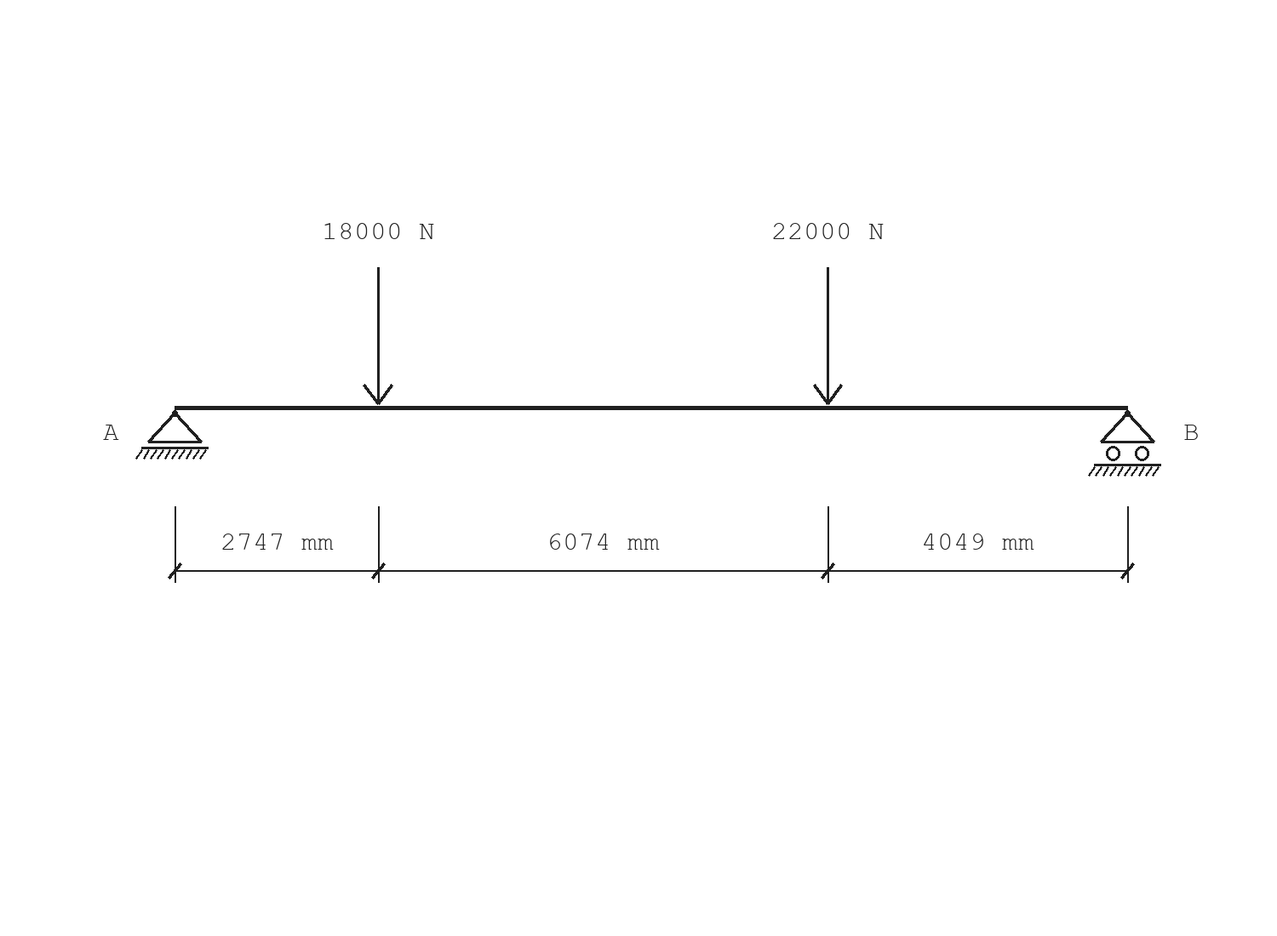pin_support: (135, 410, 209, 459)
point_load: (363, 267, 393, 405), (813, 267, 843, 405)
roller_support: (1088, 410, 1161, 477)
